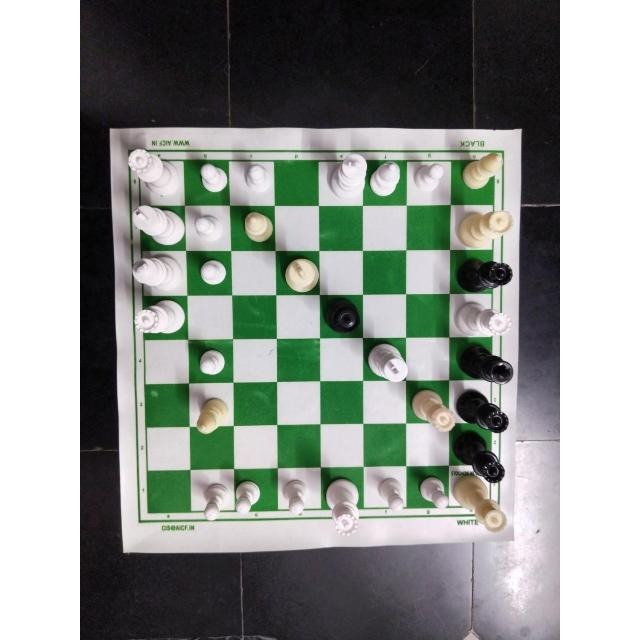black-king: (455, 340, 520, 384)
black-queen: (451, 433, 510, 487), (452, 384, 509, 434), (455, 255, 513, 297), (325, 298, 363, 338)
white-bishop: (459, 148, 503, 200), (193, 393, 237, 437), (240, 208, 283, 248), (370, 160, 403, 204)
white-king: (132, 204, 184, 248), (327, 152, 369, 204), (132, 252, 186, 292), (278, 253, 319, 293), (369, 342, 408, 382)
white-pawn: (376, 474, 410, 518), (195, 159, 235, 196), (244, 154, 280, 194), (196, 481, 232, 521), (234, 477, 266, 521), (195, 341, 231, 376), (419, 474, 455, 509), (282, 478, 310, 520), (188, 213, 229, 241), (199, 256, 229, 290), (416, 157, 444, 193)
white-queen: (446, 469, 508, 532), (412, 382, 462, 438), (121, 151, 185, 194), (451, 297, 519, 337), (322, 474, 363, 538), (460, 203, 513, 251), (129, 295, 183, 334)
